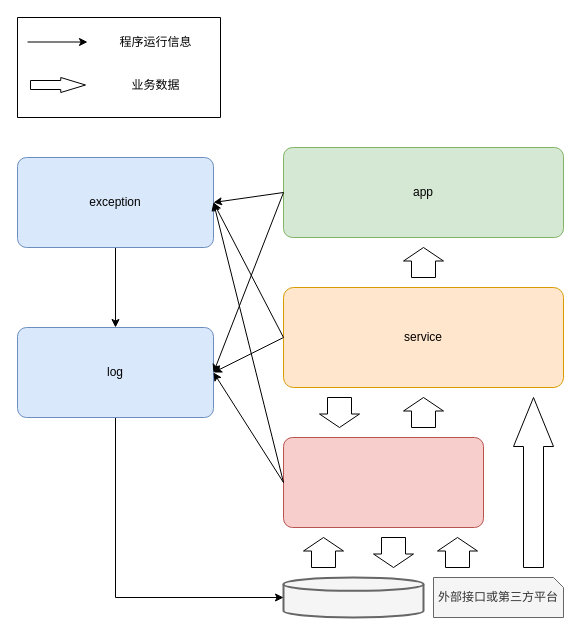
The diagram is 581 pixels wide and 636 high, and some of its shapes have lost their labels. Here are the shapes that lost their labels. From the top down, the centre of each, then its label:
At (x=383, y=482): "dao".
At (x=353, y=597): "数据源".
